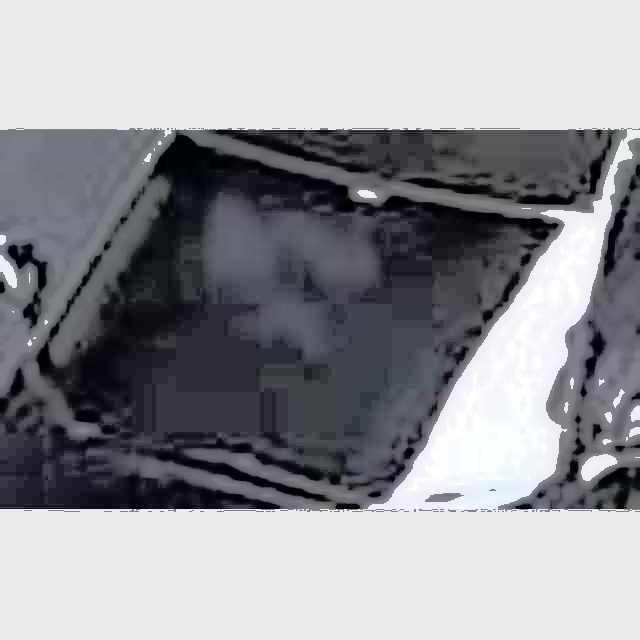pakai: (184, 168, 396, 390)
